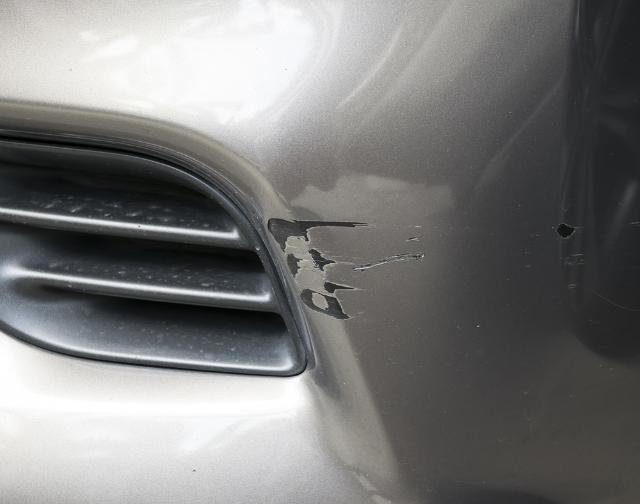scratch: (264, 215, 436, 323), (556, 217, 585, 293)
